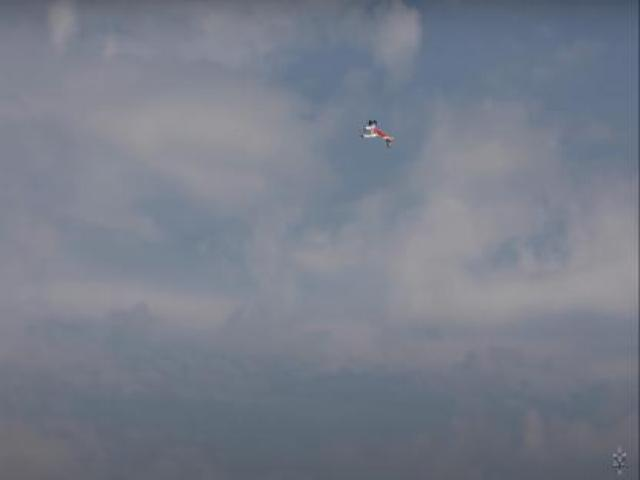uav: (359, 118, 395, 148)
